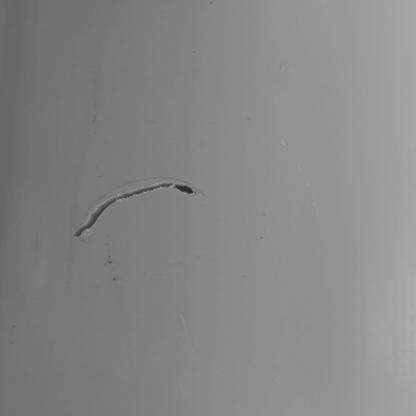fengxi: (69, 179, 200, 240)
